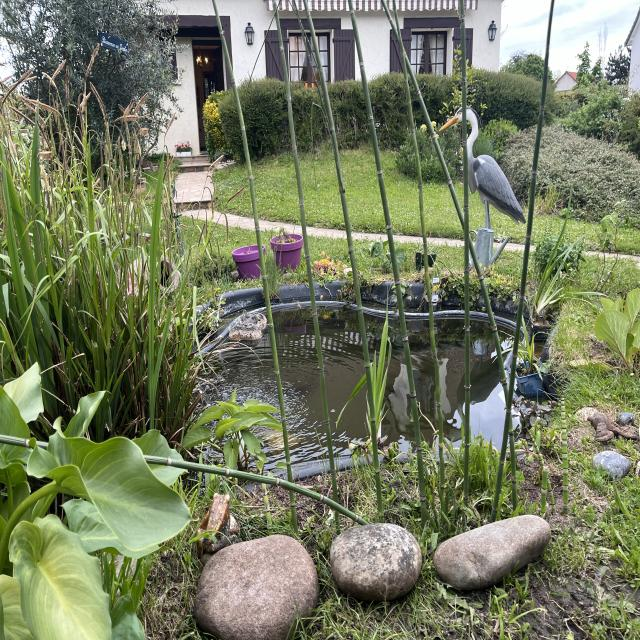Heron: (432, 98, 532, 284)
